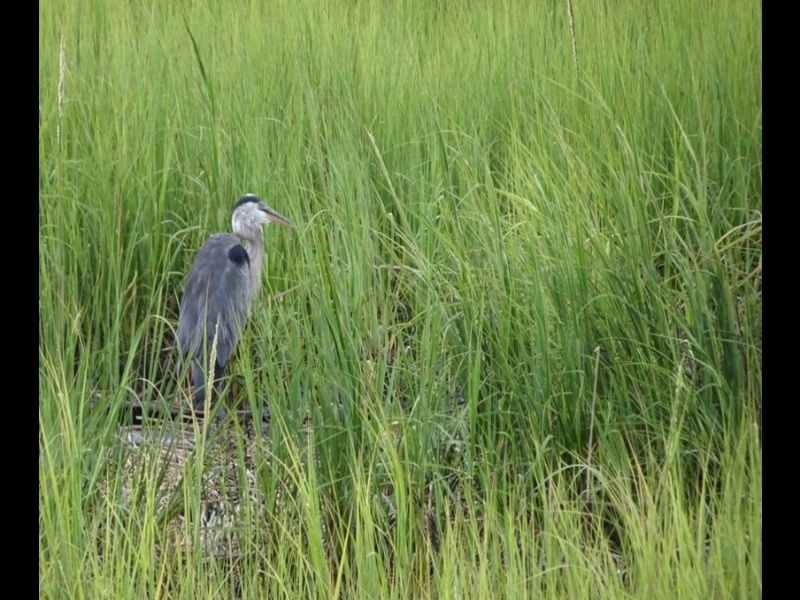heron: (175, 190, 291, 434)
